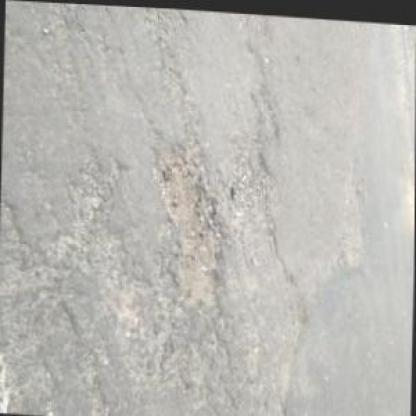pothole: (146, 140, 228, 313), (227, 146, 276, 230)
